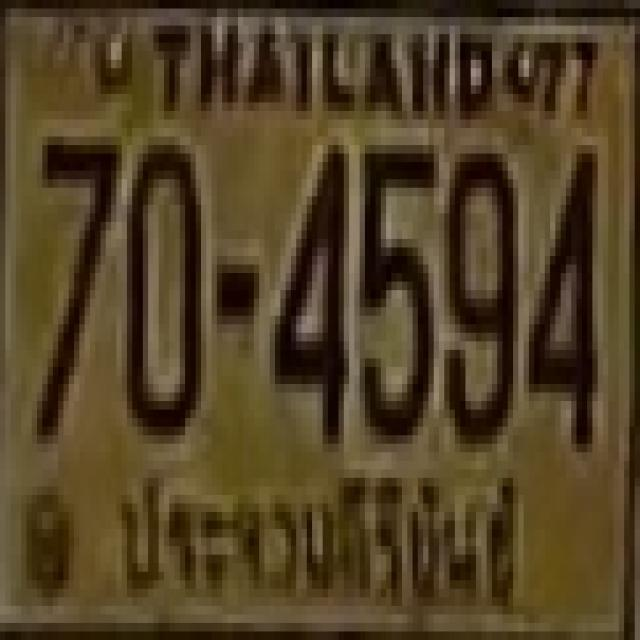0: (121, 136, 196, 426)
4: (270, 137, 344, 435), (526, 141, 595, 439)
5: (357, 137, 431, 435)
7: (37, 128, 116, 435)
9: (439, 145, 513, 435)
PKN: (100, 457, 534, 632)
